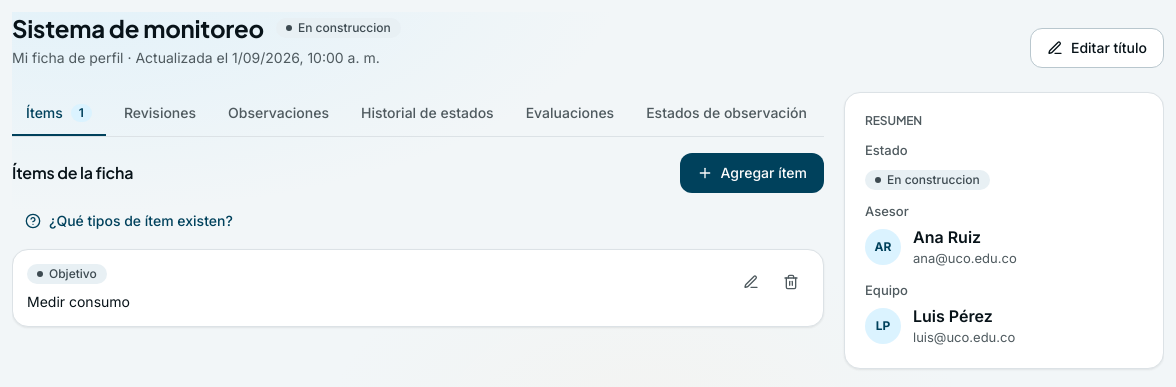
EstudianteView › la pestaña «Evaluaciones» monta el panel de evaluaciones de la ficha
Click the tab "Evaluaciones". click: (570, 114)
box: [512,92,628,136]
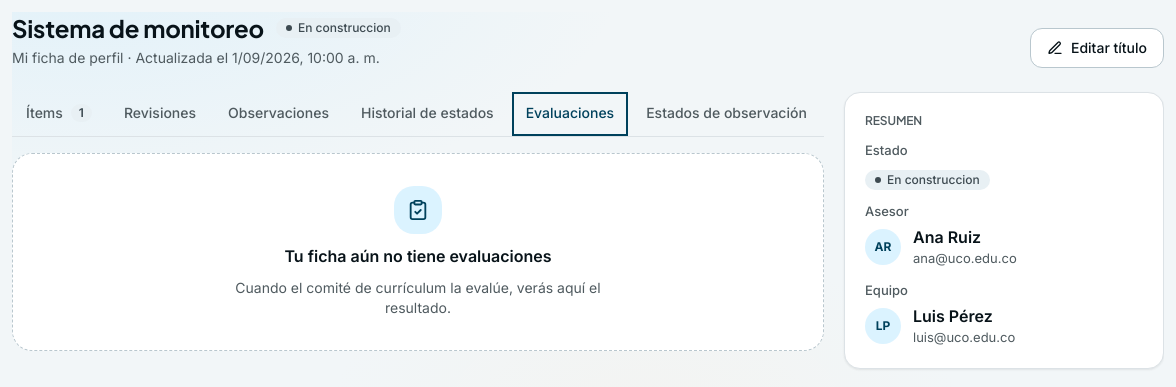
Check: the text "Tu ficha aún no tiene evaluaciones" is shown, box [284,244,552,268]
